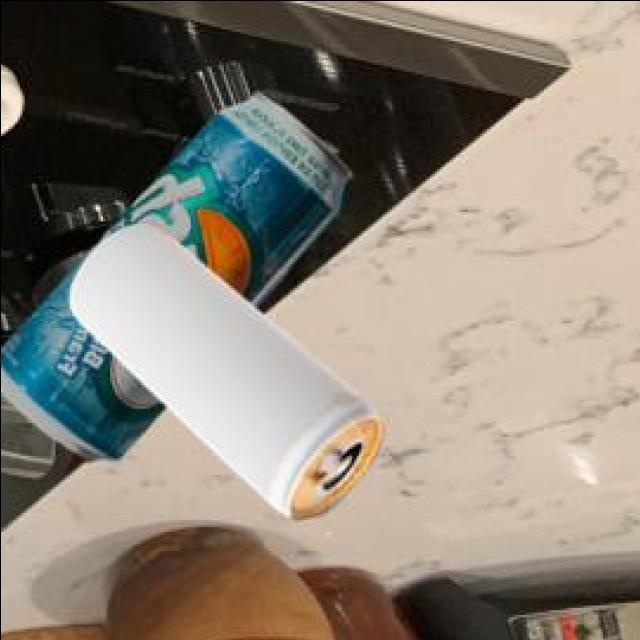logam: (0, 96, 347, 463), (68, 226, 380, 523)
